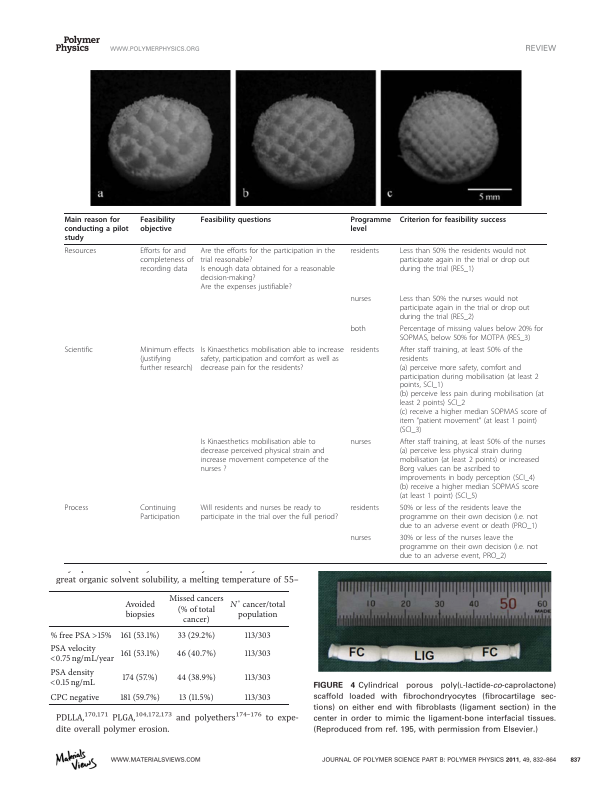borderless: (63, 211, 547, 563), (47, 589, 289, 704)
cell: (399, 345, 547, 435), (399, 437, 546, 501), (199, 246, 336, 291), (199, 437, 329, 474), (199, 345, 345, 372), (399, 503, 539, 531), (399, 533, 539, 561), (399, 246, 530, 274), (399, 294, 530, 321), (199, 503, 339, 522), (399, 324, 544, 342), (168, 594, 225, 625), (64, 215, 129, 242), (139, 246, 194, 274), (49, 643, 115, 666), (139, 345, 195, 372), (229, 595, 286, 620), (49, 667, 96, 690), (49, 626, 113, 642), (399, 215, 507, 224), (139, 503, 181, 522), (349, 215, 392, 233), (124, 599, 156, 620), (139, 215, 176, 233), (199, 215, 272, 224), (49, 692, 100, 703), (119, 692, 161, 703), (176, 648, 217, 659), (176, 672, 217, 683), (120, 648, 160, 659), (122, 672, 159, 683), (178, 692, 215, 703), (120, 630, 160, 640), (177, 630, 216, 640), (64, 246, 97, 256), (349, 246, 380, 256), (349, 503, 380, 513), (244, 648, 272, 659), (244, 672, 272, 683), (244, 692, 272, 703), (244, 630, 272, 640), (63, 345, 94, 354), (349, 345, 380, 354), (63, 503, 89, 513), (349, 437, 372, 447), (349, 533, 372, 543), (349, 294, 372, 303), (349, 324, 367, 333)
